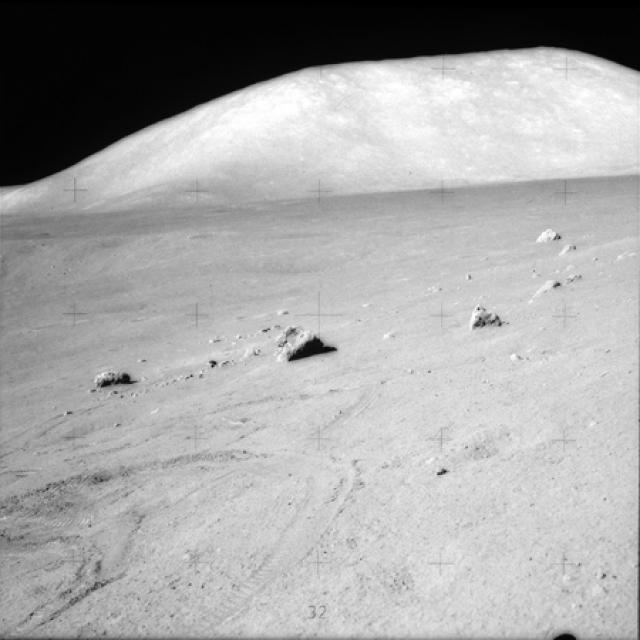rock: (276, 332, 337, 368), (464, 304, 511, 335), (87, 362, 134, 390), (534, 276, 560, 302), (535, 224, 562, 244), (556, 246, 582, 260)
